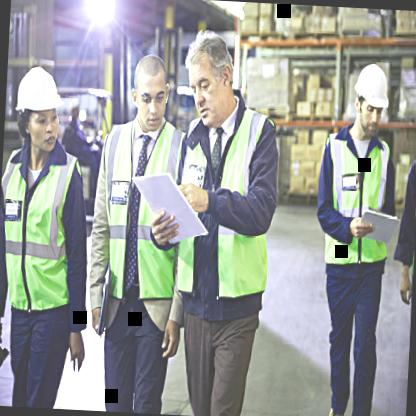head: (180, 29, 244, 128), (126, 50, 171, 134)
helmet: (15, 62, 64, 156), (352, 62, 392, 140)
